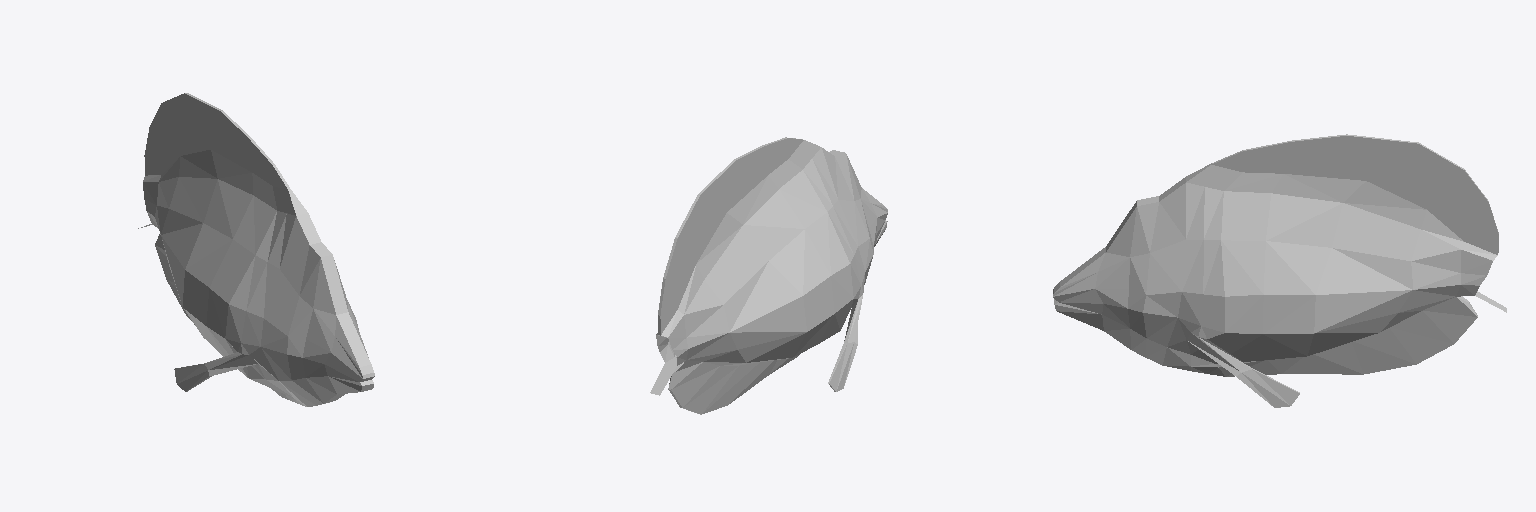
Rendered from Cuerpo1.obj.
3 views of the same model, side by side, from view 1: azimuth 30°, elevation 25°; view 2: azimuth 150°, elevation 25°; view 3: azimuth 270°, elevation 25° (orthographic).
Visible parts, largest first — view 1: polySurface1 TropicalFish08:TropicalFish08; view 2: polySurface1 TropicalFish08:TropicalFish08; view 3: polySurface1 TropicalFish08:TropicalFish08.
Part boxes in pixels (left/top/right/bottom): polySurface1 TropicalFish08:TropicalFish08: left=138, top=93, right=374, bottom=406; polySurface1 TropicalFish08:TropicalFish08: left=650, top=137, right=887, bottom=414; polySurface1 TropicalFish08:TropicalFish08: left=1053, top=134, right=1506, bottom=407.
Bounding box in the file's own units: 3.87 × 6.05 × 10.34.